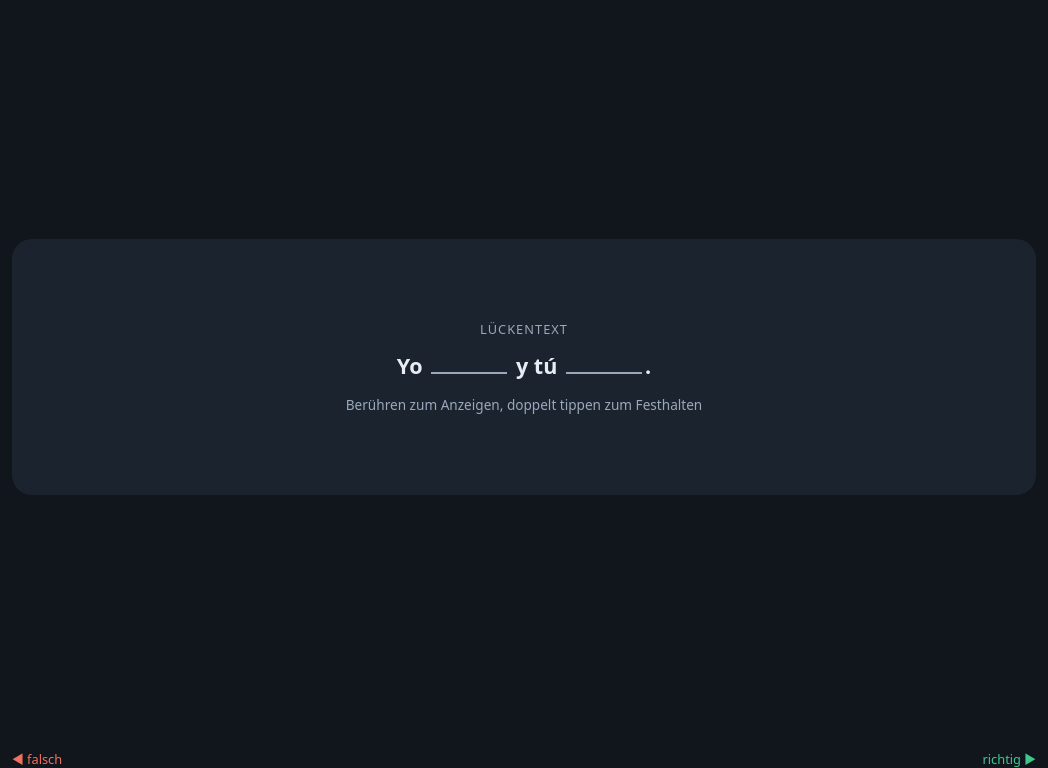
Test: GapCard › hält die Lösung nach einem Doppeltipp fest
Press the mouse on the element that starts with "Lückentext" at (524, 367), box [12,239,1036,495]
Press the mouse on the element that starts with "Lückentext" at (524, 367), box [12,239,1036,495]
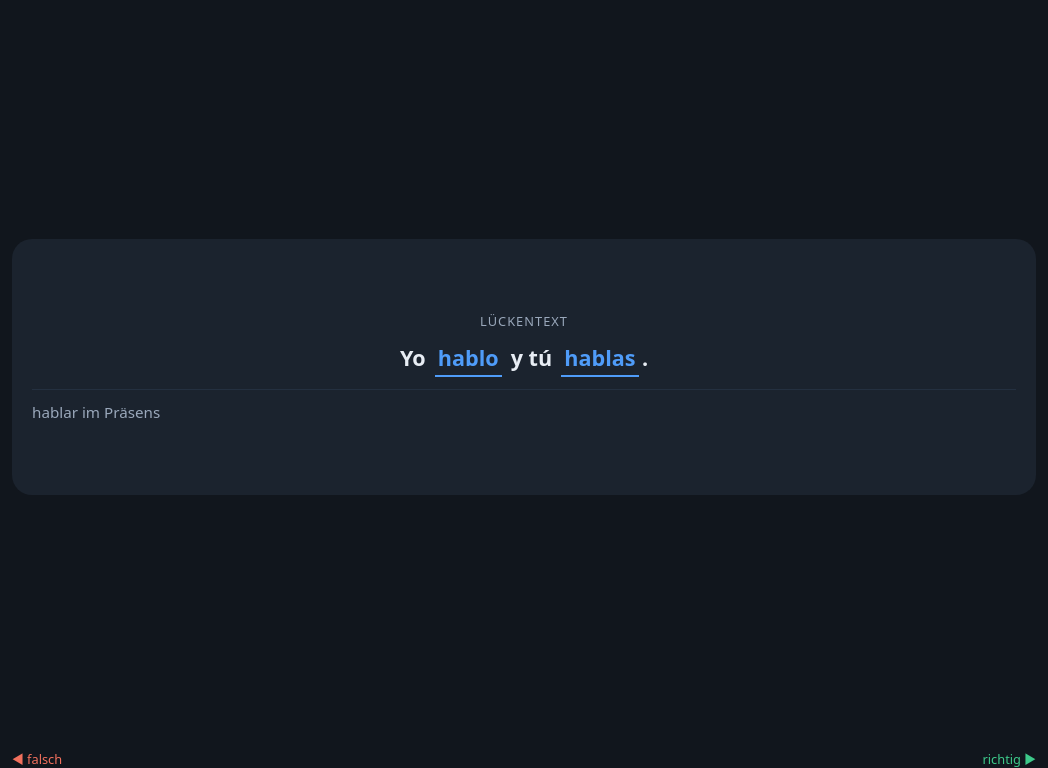
Now the text "hablo" is shown, box [434,342,502,377]
Now the text "hablas" is shown, box [561,342,639,377]
